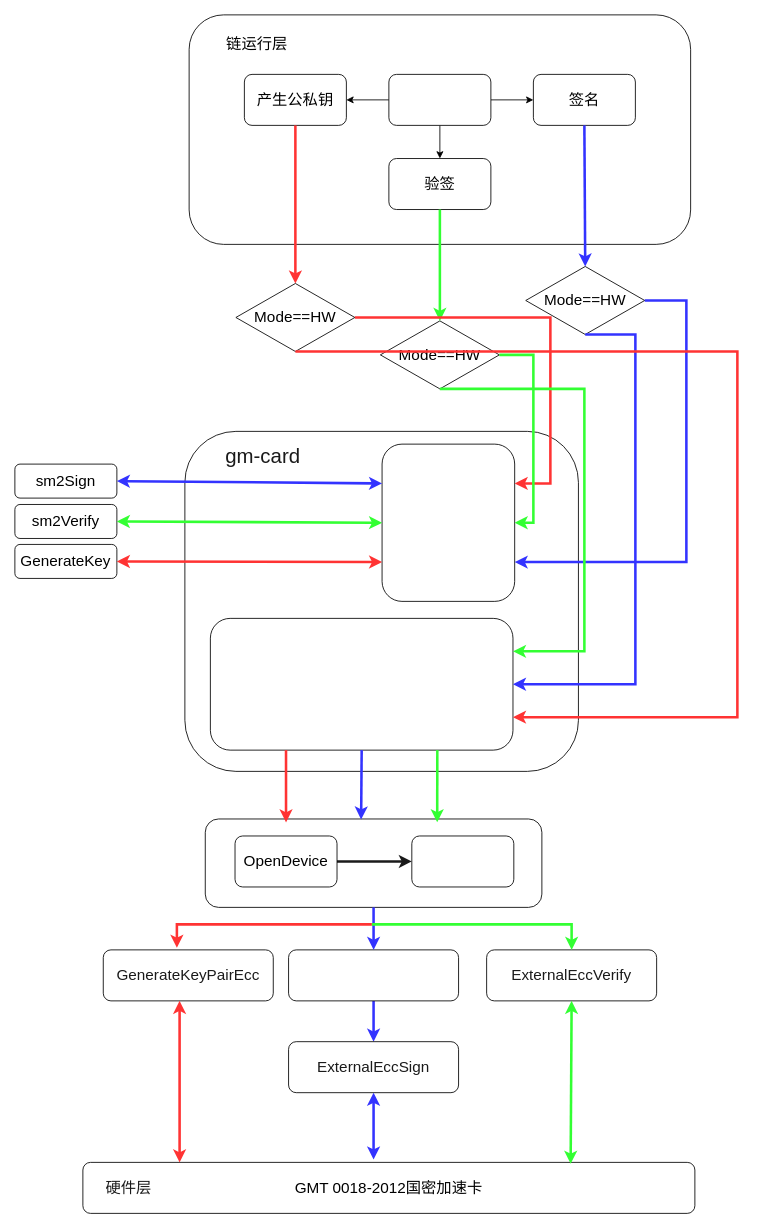
Image size: 760x1228. Some labels were removed from this diagram. Each missing label, with the centre of its shape:
OpenSession: [462,861]
Sim3Digest(来自同济库): [373,975]
同济国密库: [448,522]
国密加速卡接口: [361,684]
链运行: [439,99]
